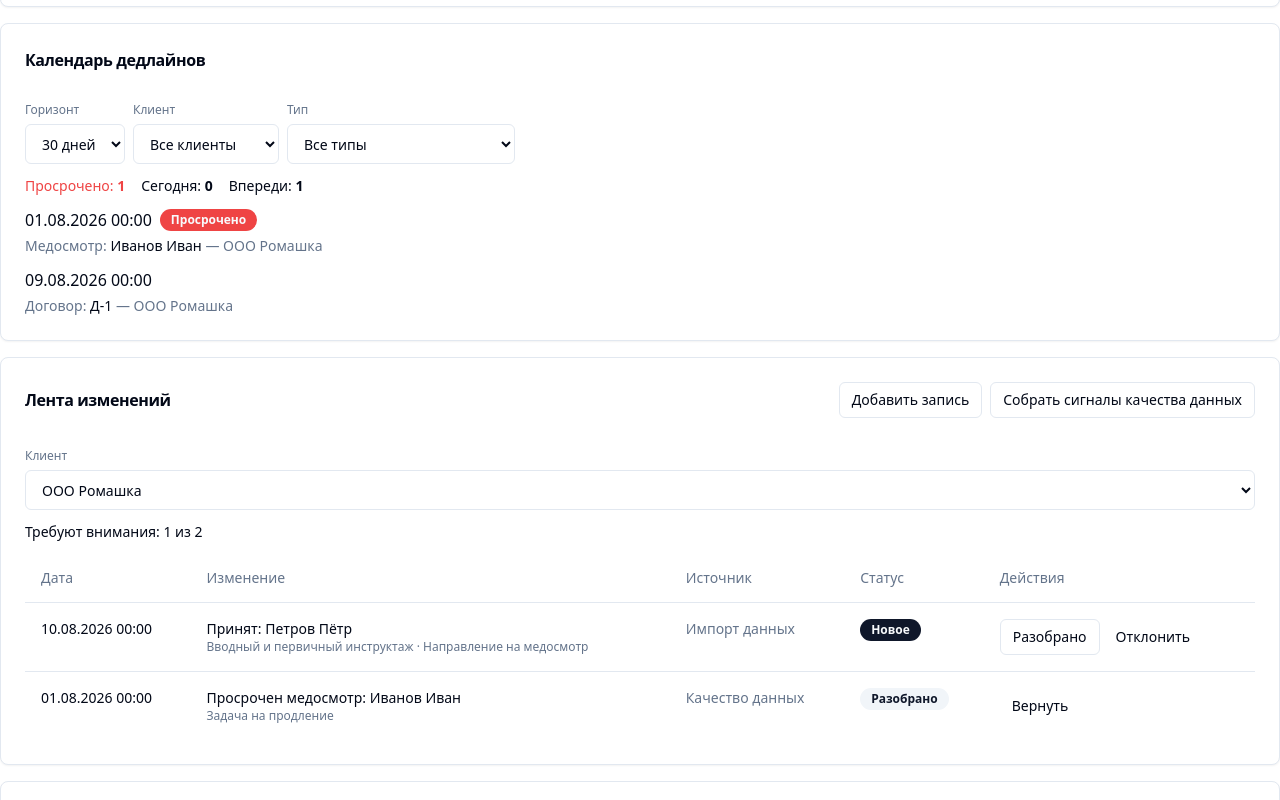
Test: Лента изменений (BIZ-51) › сбор сигналов качества показывает честный итог НА ЭКРАНЕ
(page scrolled)
Check: the table with test id "feed-table" is shown, box [25,554,1255,740]
Click the button with test id "collect-dq-button": (1123, 400) [990,382,1255,418]
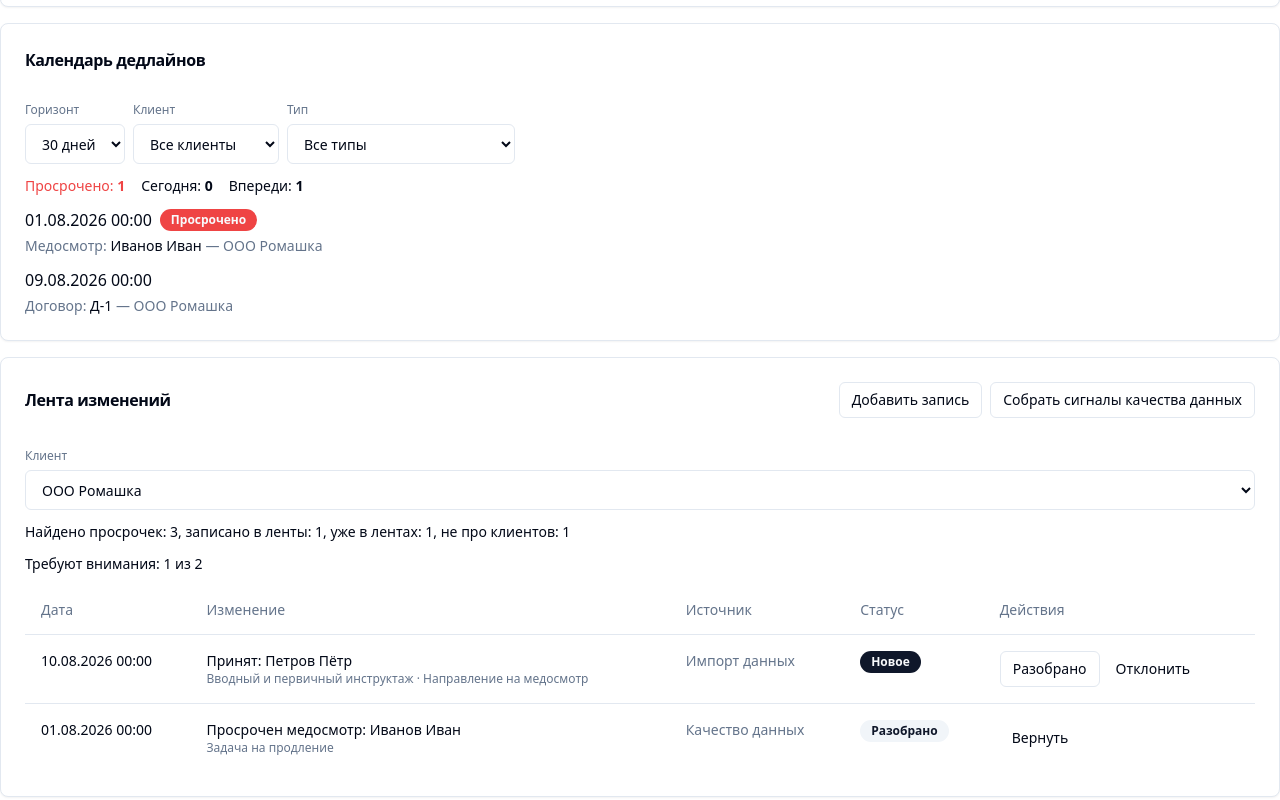
Check: the text with test id "dq-collect-result" shows "не про клиентов: 1", box [25,522,570,541]
